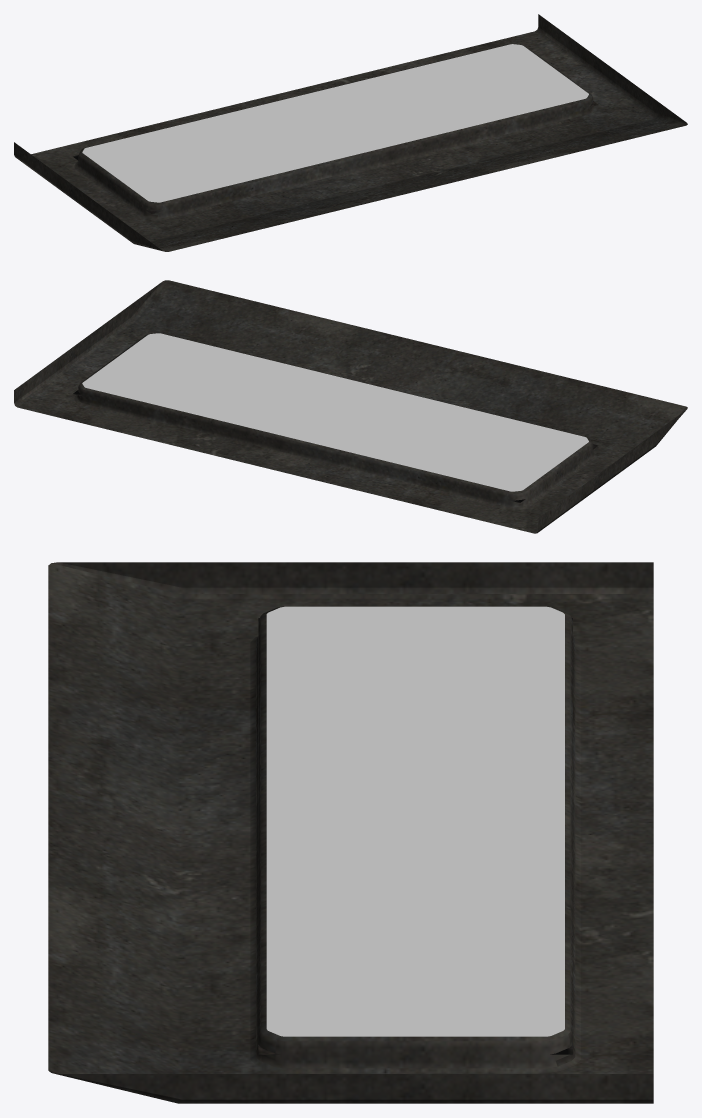
Rendered from ceiling_peace_1.obj.
3 views of the same model, one above another, from view 1: azimuth 30°, elevation 25°; view 2: azimuth 150°, elevation 25°; view 3: azimuth 270°, elevation 25° (orthographic). The views are drawn at different scales.
Visible parts, largest first — view 1: ceiling_peace_1; view 2: ceiling_peace_1; view 3: ceiling_peace_1.
Part boxes in pixels (bbox=[...]): ceiling_peace_1: bbox=[14, 14, 687, 251]; ceiling_peace_1: bbox=[14, 280, 687, 533]; ceiling_peace_1: bbox=[48, 562, 653, 1103].
Size of the model in its own units: 3 by 0.09 by 1.5.
